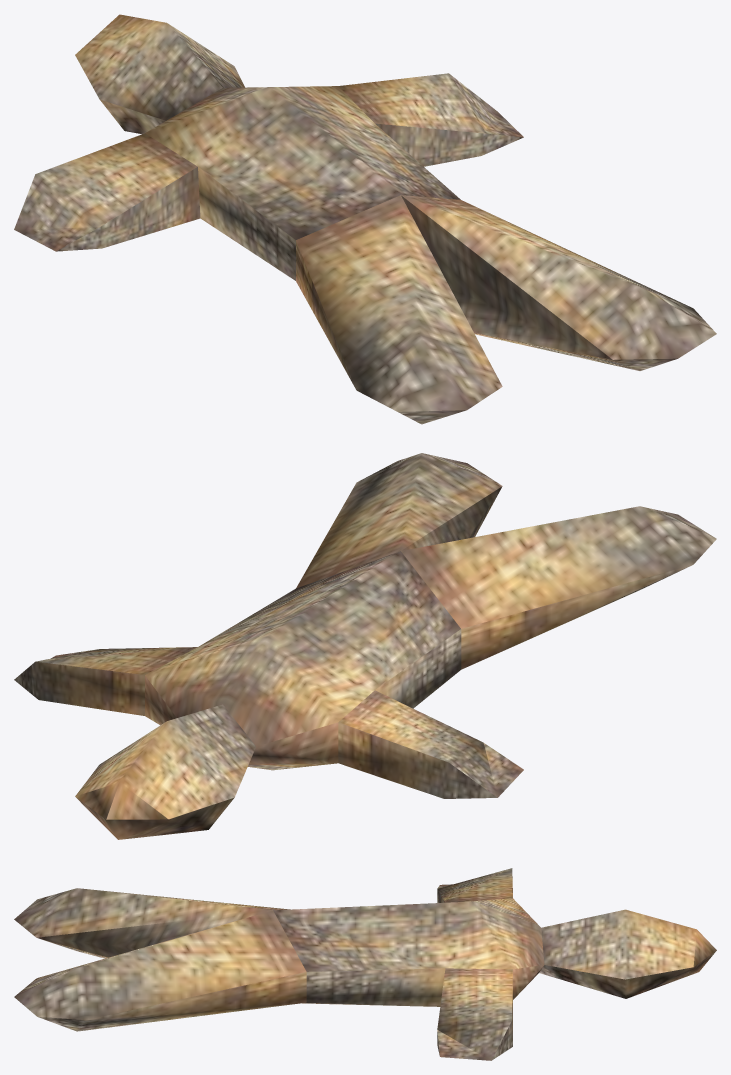
Rendered from shop_voodoo_doll.fbx.
The picture shows the model from 3 angles, top to bottom: view 1: azimuth 30°, elevation 25°; view 2: azimuth 150°, elevation 25°; view 3: azimuth 270°, elevation 25°; orthographic projection. The views are drawn at different scales.
Visible parts, largest first — view 1: voodoo_doll; view 2: voodoo_doll; view 3: voodoo_doll.
Boxes of the visible parts, x1,y1,x2,y2 form: voodoo_doll: (14,14,716,424); voodoo_doll: (14,453,716,839); voodoo_doll: (14,868,716,1060).
Size of the model in its own units: 48.78 by 13.2 by 81.45.
1 material, 1 textured.
